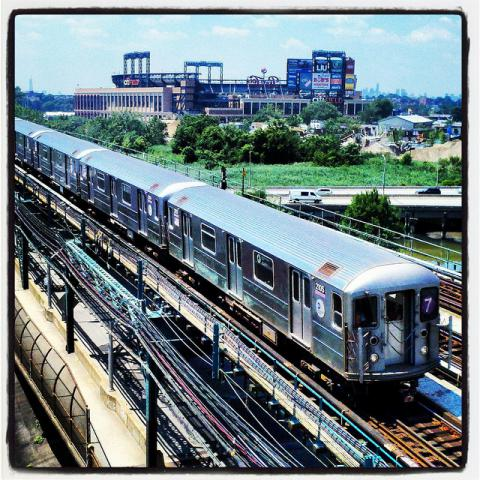car: (288, 188, 322, 204), (415, 187, 441, 195), (313, 188, 335, 195), (457, 187, 463, 193)
